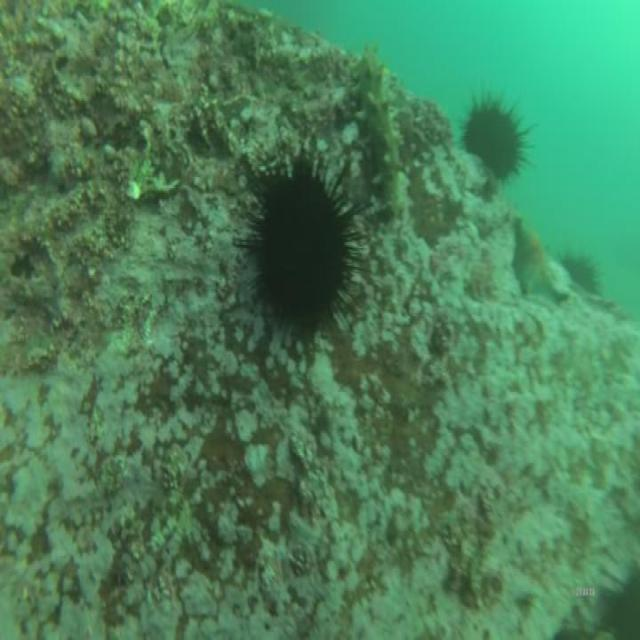echinus: (228, 133, 370, 370), (457, 84, 539, 190), (561, 242, 604, 298)
holothurian: (348, 38, 413, 227)
starfish: (508, 212, 572, 306)
